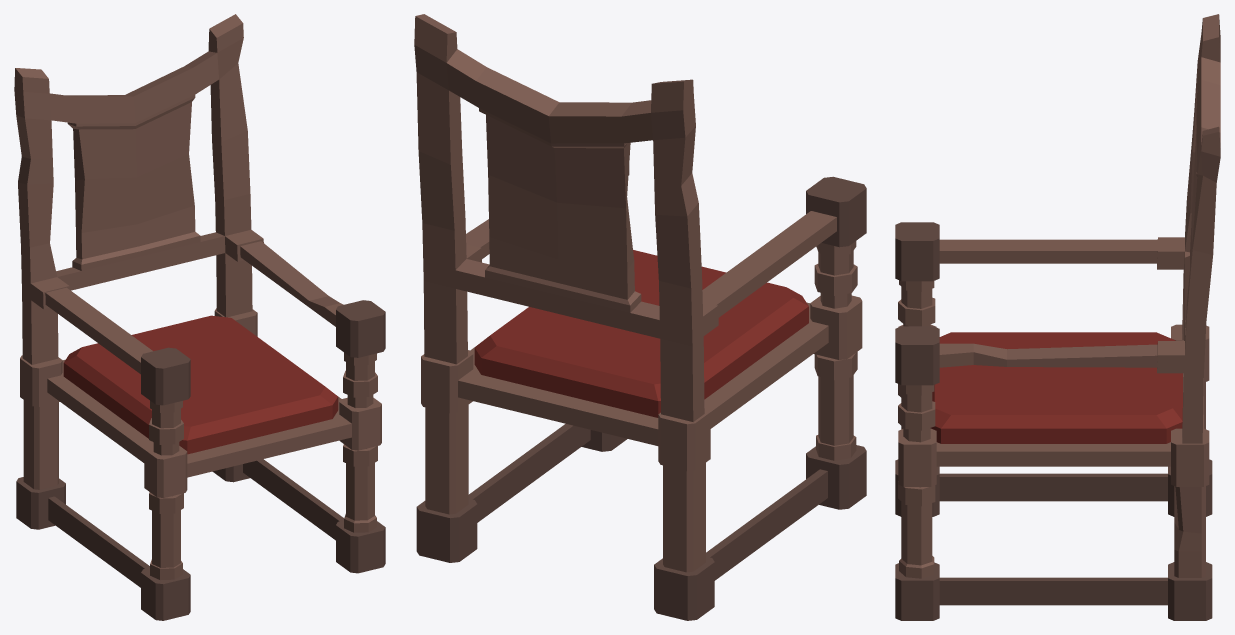
The model's file is Dungeon_Chair.glb.
The picture shows the model from 3 angles, left to right: view 1: azimuth 30°, elevation 25°; view 2: azimuth 150°, elevation 25°; view 3: azimuth 270°, elevation 25°; orthographic projection. The views are drawn at different scales.
Parts seen in each view (by area): view 1: Chair; view 2: Chair; view 3: Chair.
Part boxes in pixels (left/top/right/bottom): Chair: left=14, top=14, right=385, bottom=620; Chair: left=414, top=14, right=866, bottom=620; Chair: left=895, top=14, right=1220, bottom=620.
Size of the model in its own units: 0.627 by 1.16 by 0.7025.
